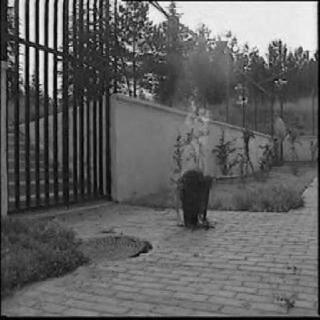Fire: (194, 216, 208, 228), (178, 142, 190, 154), (199, 122, 210, 134), (175, 174, 183, 184)
